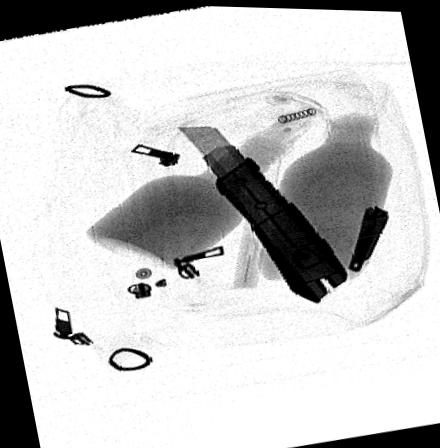Knife: (174, 123, 348, 301)
